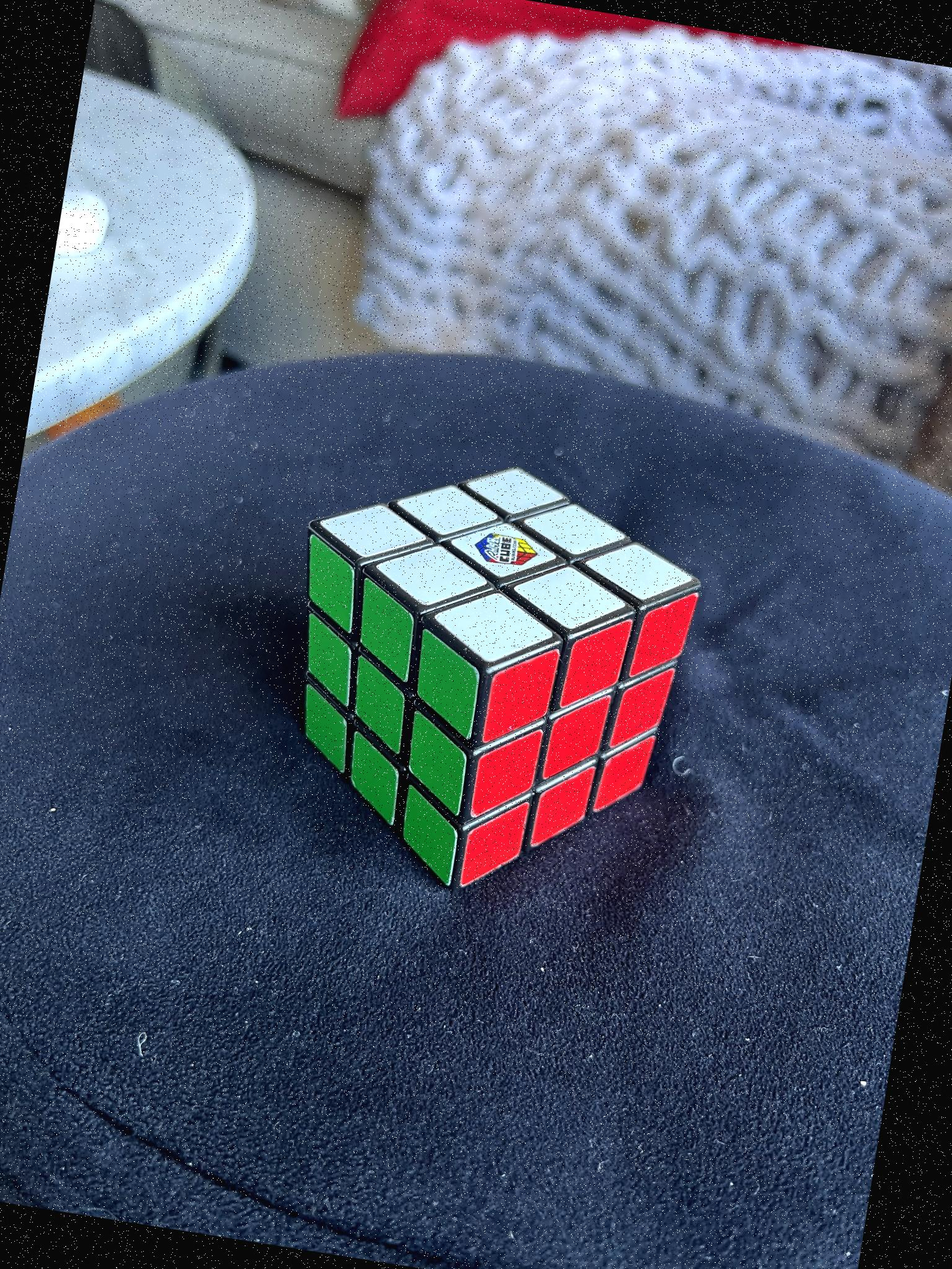rubiks_cube: (304, 467, 698, 886)
